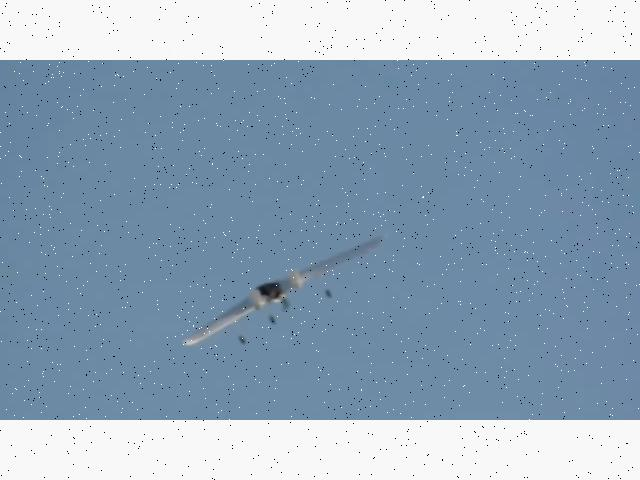Anti-Drone: (185, 237, 379, 345)
